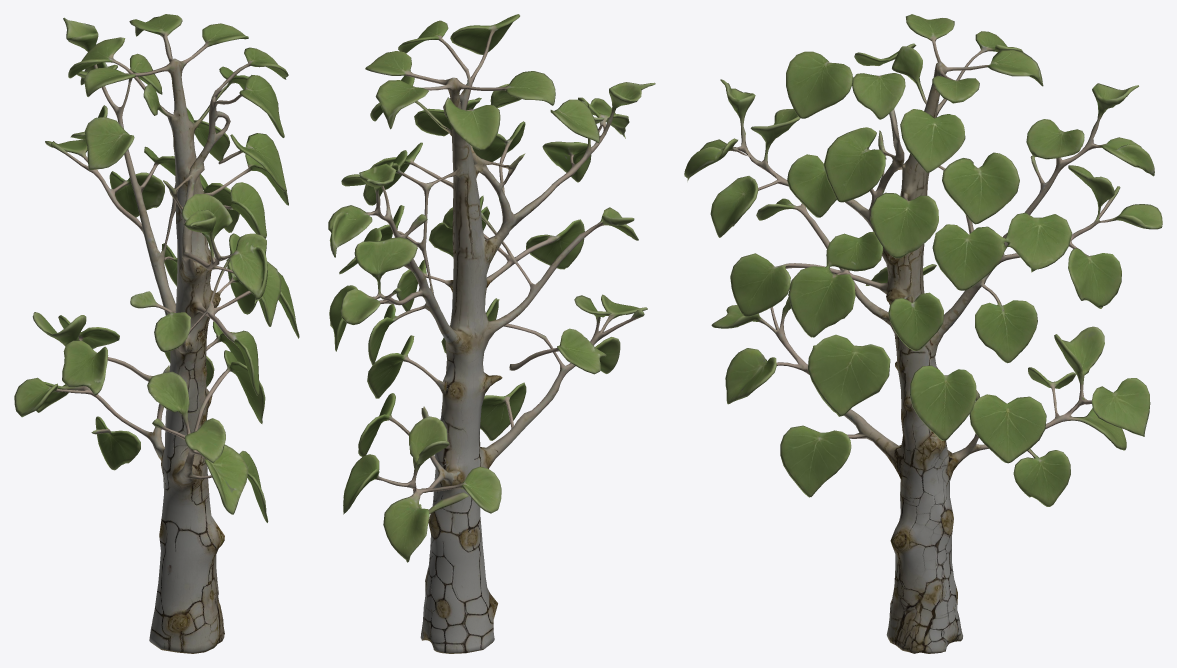
Rendered from plains_tree_03.glb.
3 views of the same model, side by side, from view 1: azimuth 30°, elevation 25°; view 2: azimuth 150°, elevation 25°; view 3: azimuth 270°, elevation 25° (orthographic).
Parts seen in each view (by area): view 1: tripo_node_30ae327e-82b7-41eb-8864-558c2d3b6290; view 2: tripo_node_30ae327e-82b7-41eb-8864-558c2d3b6290; view 3: tripo_node_30ae327e-82b7-41eb-8864-558c2d3b6290.
Part boxes in pixels (bbox=[...]): tripo_node_30ae327e-82b7-41eb-8864-558c2d3b6290: bbox=[14, 14, 299, 653]; tripo_node_30ae327e-82b7-41eb-8864-558c2d3b6290: bbox=[328, 14, 655, 653]; tripo_node_30ae327e-82b7-41eb-8864-558c2d3b6290: bbox=[684, 14, 1162, 653].
Size of the model in its own units: 0.3857 by 0.9779 by 0.7208.
1 material, 1 textured.
